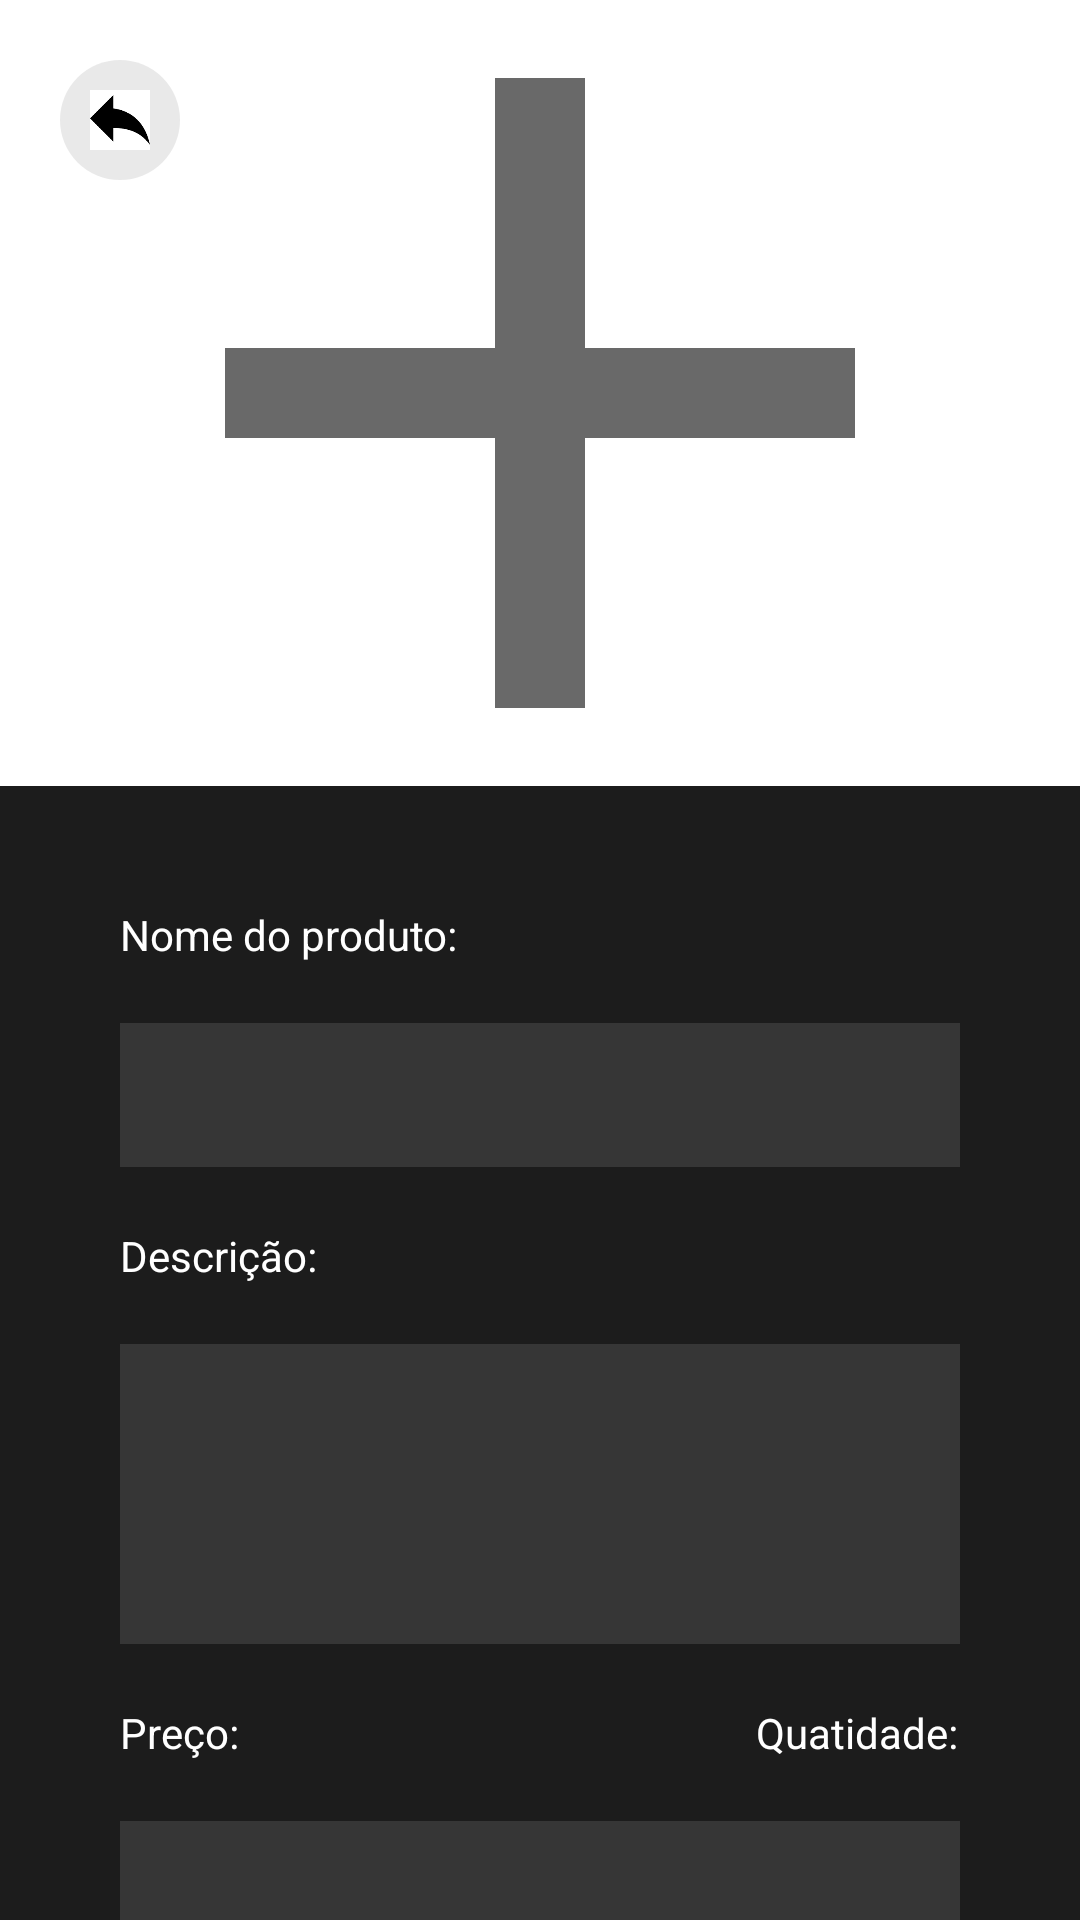

Icon bounding boxes for this 1080 x 1920 phone screenshot, format (x1, y1, x2, y2):
seta back: (90, 95, 150, 145)
